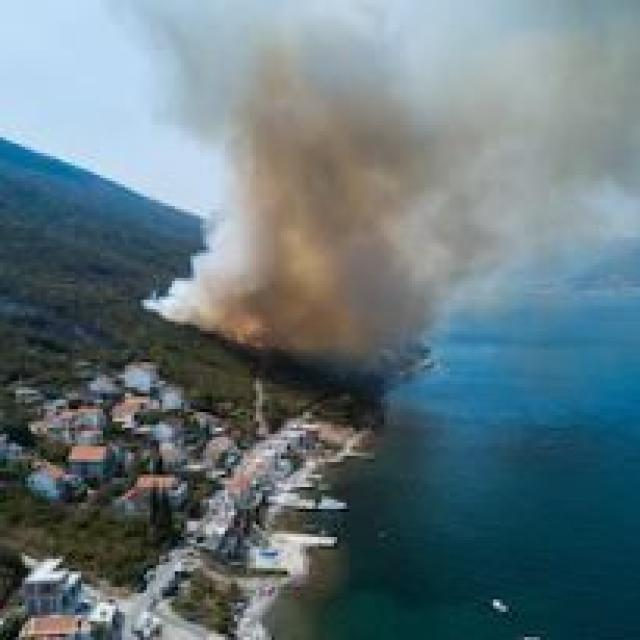Smoke: (138, 0, 640, 370)
